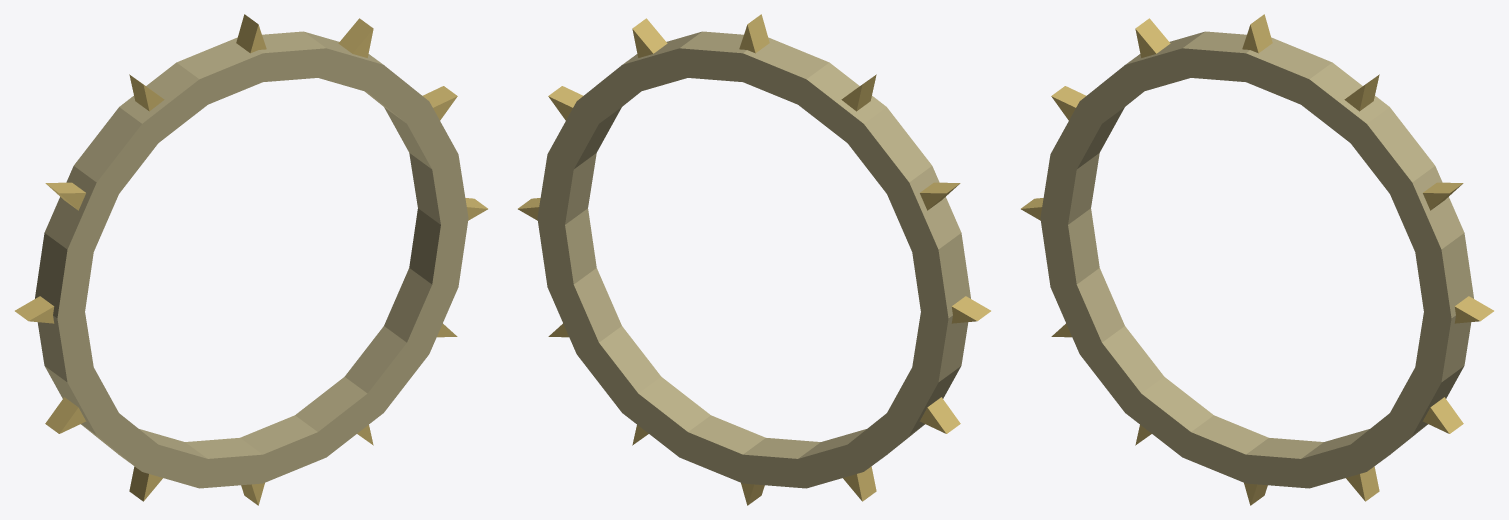
File: sun_ring.obj
The picture shows the model from 3 angles, left to right: view 1: azimuth 30°, elevation 25°; view 2: azimuth 150°, elevation 25°; view 3: azimuth 330°, elevation 25°; orthographic projection.
Parts seen in each view (by area): view 1: sun_frame, sun_ray_04_sun_ray_edge, sun_ray_11_sun_ray_edge, sun_ray_00_sun_ray_edge; view 2: sun_frame, sun_ray_04_sun_ray_edge, sun_ray_11_sun_ray_edge, sun_ray_00_sun_ray_edge; view 3: sun_frame, sun_ray_08_sun_ray_edge, sun_ray_01_sun_ray_edge, sun_ray_00_sun_ray_edge.
Boxes of the visible parts, x1=… form: sun_frame: x1=35, y1=31, x2=468, y2=488; sun_ray_04_sun_ray_edge: x1=45, y1=397, x2=78, y2=433; sun_ray_11_sun_ray_edge: x1=338, y1=18, x2=373, y2=53; sun_ray_00_sun_ray_edge: x1=236, y1=14, x2=258, y2=52; sun_frame: x1=537, y1=31, x2=970, y2=488; sun_ray_04_sun_ray_edge: x1=927, y1=397, x2=960, y2=433; sun_ray_11_sun_ray_edge: x1=632, y1=18, x2=667, y2=53; sun_ray_00_sun_ray_edge: x1=747, y1=14, x2=769, y2=52; sun_frame: x1=1040, y1=31, x2=1473, y2=488; sun_ray_08_sun_ray_edge: x1=1430, y1=397, x2=1463, y2=433; sun_ray_01_sun_ray_edge: x1=1135, y1=18, x2=1170, y2=53; sun_ray_00_sun_ray_edge: x1=1250, y1=14, x2=1272, y2=52.
Size of the model in its own units: 1.5 by 1.5 by 0.13.
